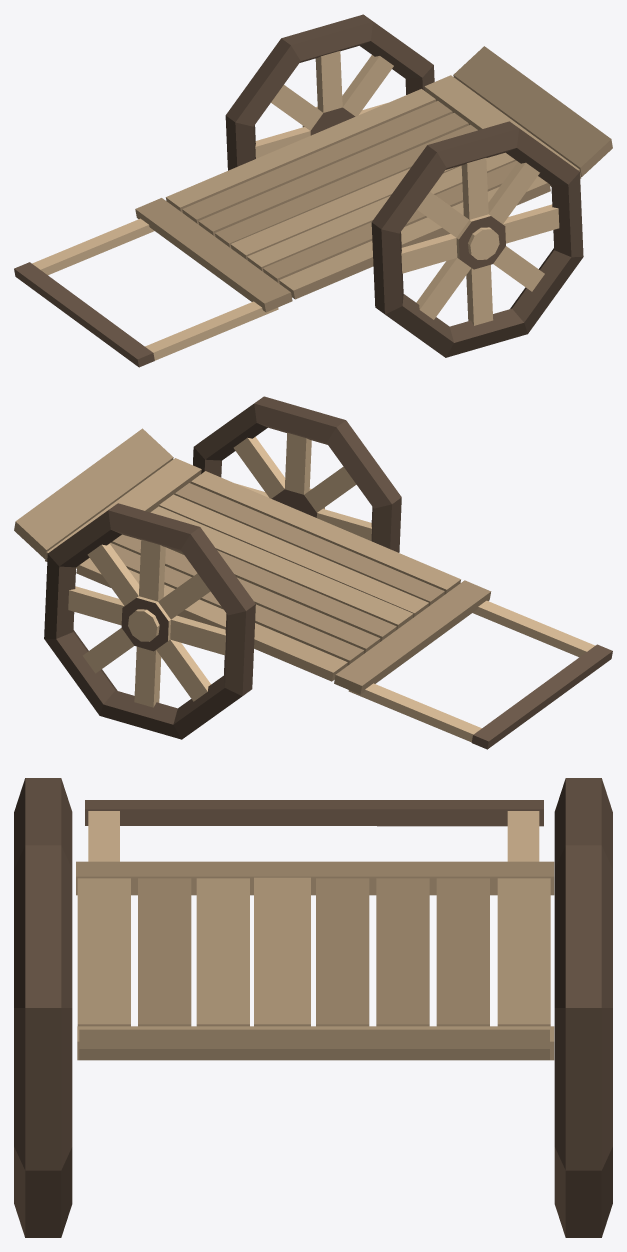
Rendered from carrin.fbx.
The picture shows the model from 3 angles, top to bottom: view 1: azimuth 30°, elevation 25°; view 2: azimuth 150°, elevation 25°; view 3: azimuth 270°, elevation 25°; orthographic projection. The views are drawn at different scales.
Parts seen in each view (by area): view 1: pTorus5; view 2: pTorus5; view 3: pTorus5.
Part boxes in pixels (x1,y1,x2,y2): pTorus5: [14, 14, 612, 367]; pTorus5: [14, 396, 612, 749]; pTorus5: [14, 778, 612, 1237].
Bounding box in the file's own units: 9.12 × 3.89 × 5.4.
